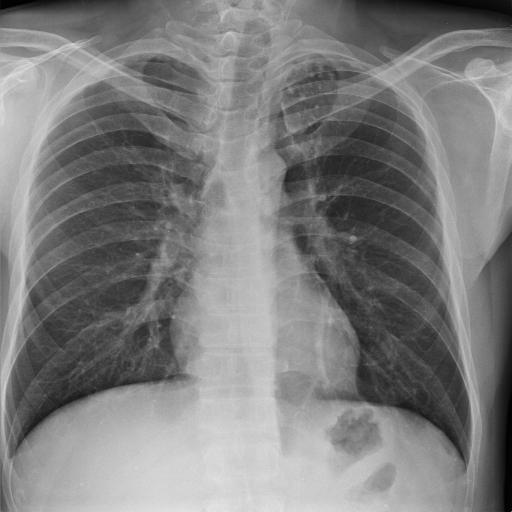Pleural effusion: (0, 432, 11, 456)
Pleural thickening: (32, 37, 132, 68), (315, 37, 377, 79), (236, 38, 324, 64), (0, 432, 11, 456)
Pulmonary fibrosis: (255, 26, 314, 96)
